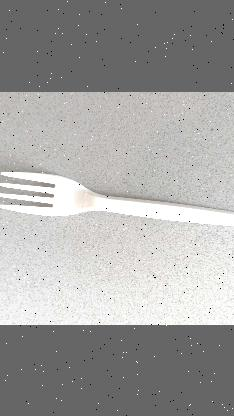Others: (0, 164, 234, 237)
